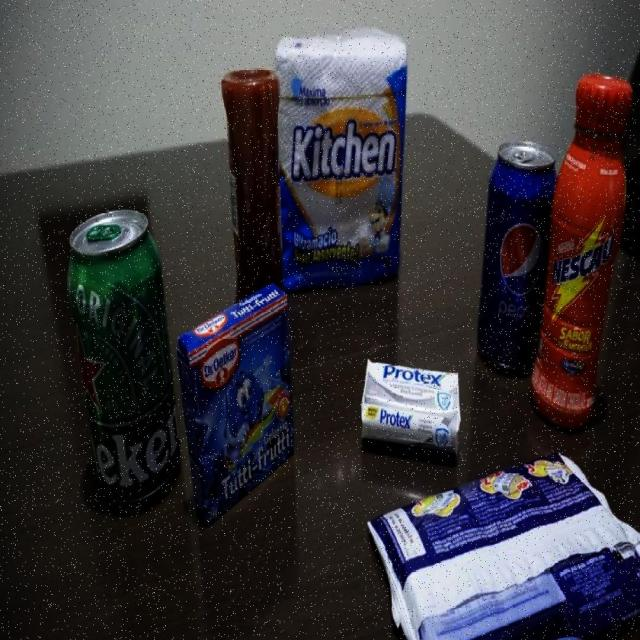BeerCan: (64, 208, 180, 512)
ChocolateMilk: (530, 70, 633, 428)
Gelatine: (177, 282, 295, 533)
Ketchup: (222, 64, 284, 285)
Napkin: (276, 26, 409, 289)
Popcorn: (362, 452, 640, 640)
Soap: (358, 353, 462, 461)
SodaCan: (474, 142, 546, 376)
